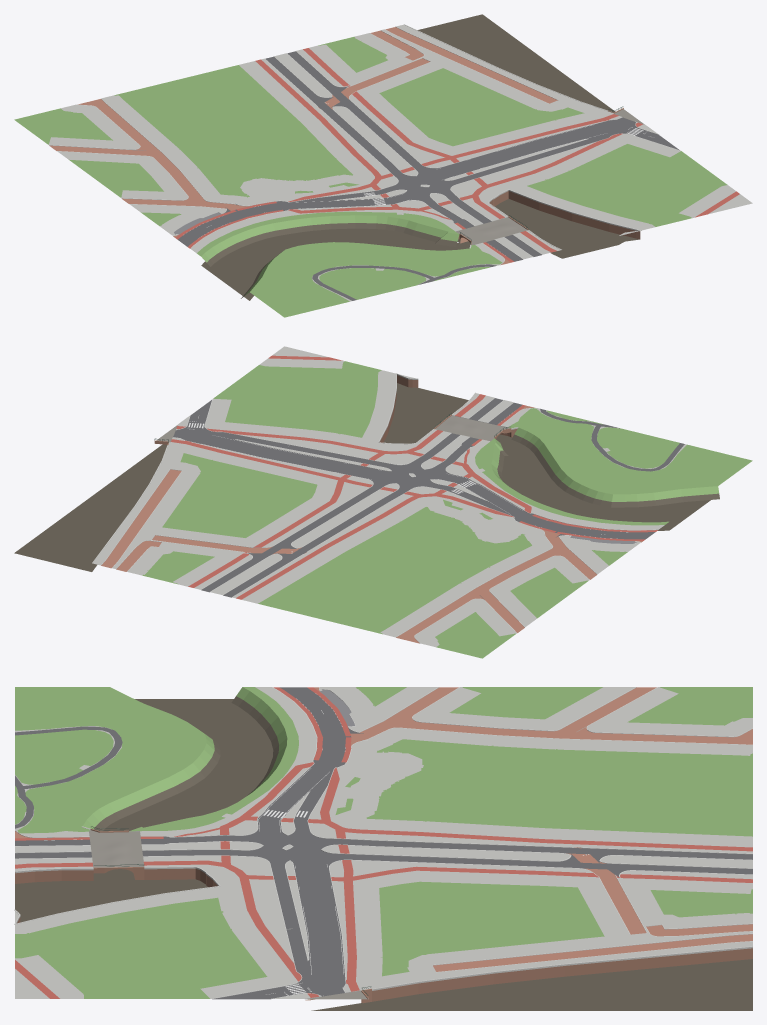
The model's file is ground_8_7.glb.
3 views of the same model, one above another, from view 1: azimuth 30°, elevation 25°; view 2: azimuth 150°, elevation 25°; view 3: azimuth 270°, elevation 25° (orthographic). The views are drawn at different scales.
Parts seen in each view (by area): view 1: ground_8_7; view 2: ground_8_7; view 3: ground_8_7.
Part boxes in pixels (<box>): ground_8_7: <box>14,14,752,317</box>; ground_8_7: <box>14,346,752,658</box>; ground_8_7: <box>14,687,752,1010</box>.
Bounding box in the file's own units: 203 × 4.6 × 200.
